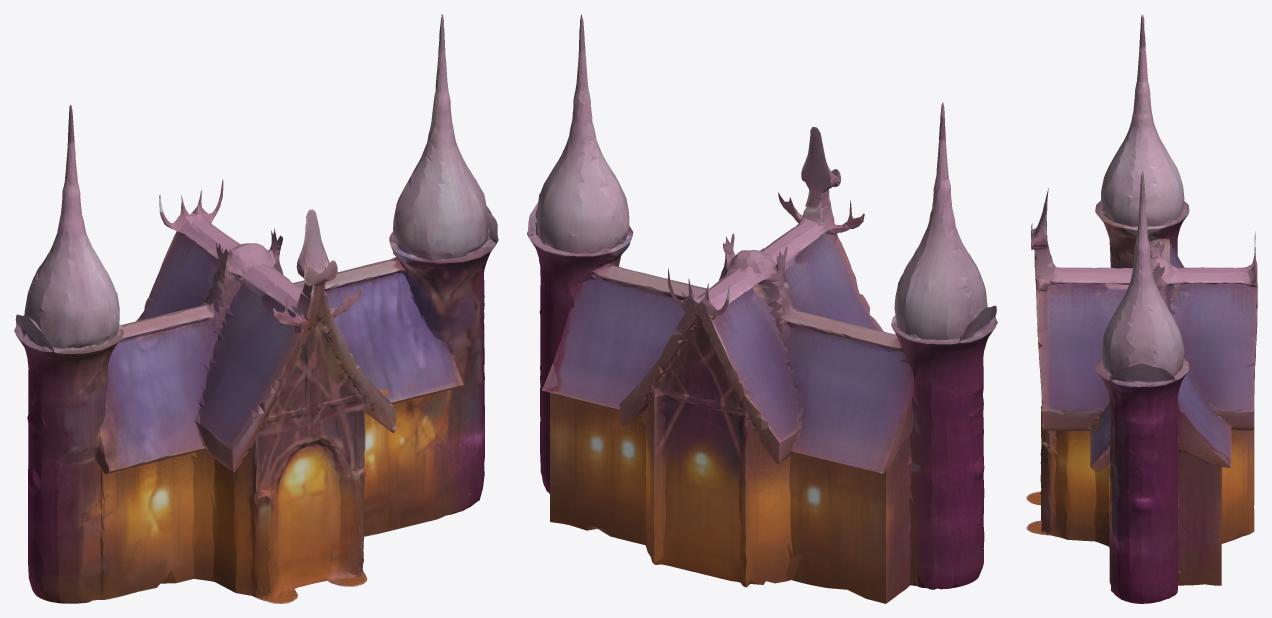
The model's file is nightelf_farm.glb.
The picture shows the model from 3 angles, left to right: view 1: azimuth 30°, elevation 25°; view 2: azimuth 150°, elevation 25°; view 3: azimuth 270°, elevation 25°; orthographic projection. The views are drawn at different scales.
Parts seen in each view (by area): view 1: NightElf_Farm; view 2: NightElf_Farm; view 3: NightElf_Farm.
Part boxes in pixels (x1,y1,x2,y2): NightElf_Farm: [14, 14, 498, 603]; NightElf_Farm: [527, 14, 997, 603]; NightElf_Farm: [1026, 14, 1257, 603].
Size of the model in its own units: 5.68 by 5.67 by 2.82.
Materials: 1 (1 with a texture image).
